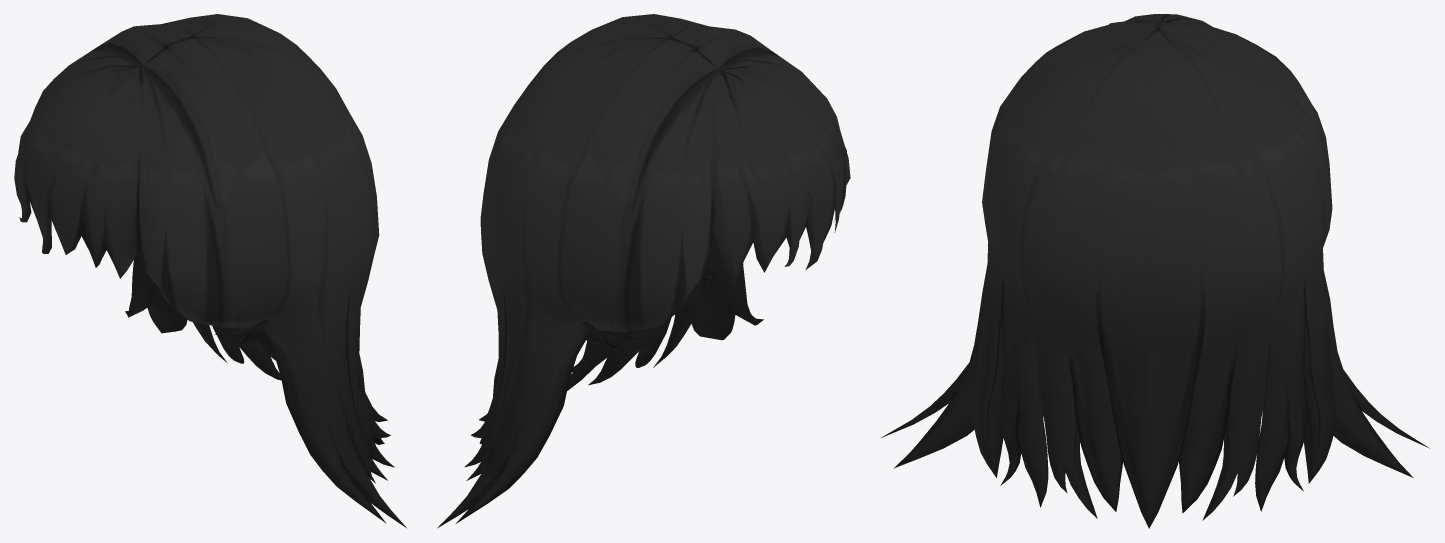
Rendered from hair_long_black.gltf.
The picture shows the model from 3 angles, left to right: view 1: azimuth 30°, elevation 25°; view 2: azimuth 150°, elevation 25°; view 3: azimuth 270°, elevation 25°; orthographic projection. The views are drawn at different scales.
Parts seen in each view (by area): view 1: Milady_hair; view 2: Milady_hair; view 3: Milady_hair.
Part boxes in pixels (x1,y1,x2,y2): Milady_hair: [14, 14, 406, 527]; Milady_hair: [437, 14, 850, 528]; Milady_hair: [881, 14, 1429, 528].
Bounding box in the file's own units: 0.6756 × 0.8158 × 0.9877.
1 material, 1 textured.
